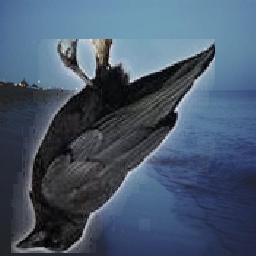Crow: (11, 39, 215, 253)
